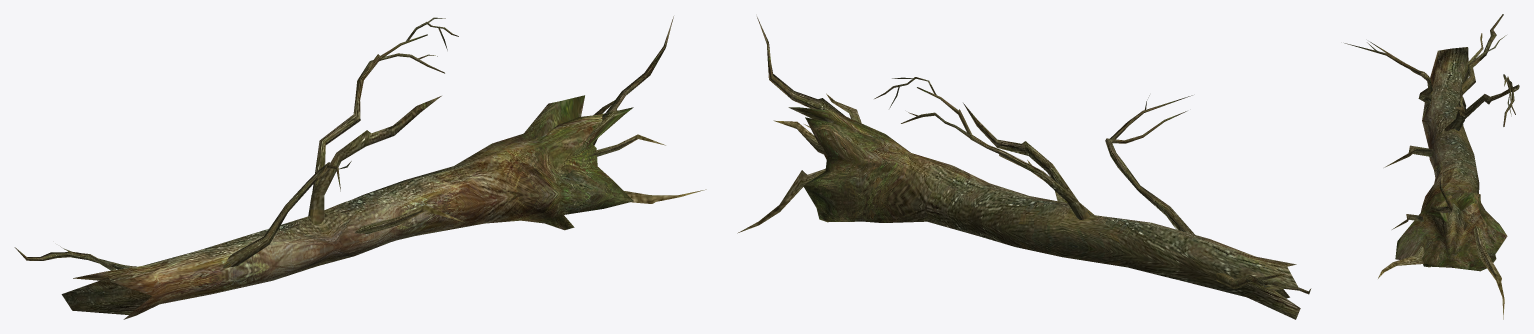
Rendered from S_Tree_Yellow016.FBX.
The picture shows the model from 3 angles, left to right: view 1: azimuth 30°, elevation 25°; view 2: azimuth 150°, elevation 25°; view 3: azimuth 270°, elevation 25°; orthographic projection. The views are drawn at different scales.
Parts seen in each view (by area): view 1: S_Tree_Yellow016; view 2: S_Tree_Yellow016; view 3: S_Tree_Yellow016.
Boxes of the visible parts, x1,y1,x2,y2 form: S_Tree_Yellow016: [14, 16, 706, 319]; S_Tree_Yellow016: [737, 17, 1311, 319]; S_Tree_Yellow016: [1344, 14, 1519, 319].
Bounding box in the file's own units: 1097 × 345 × 358.
